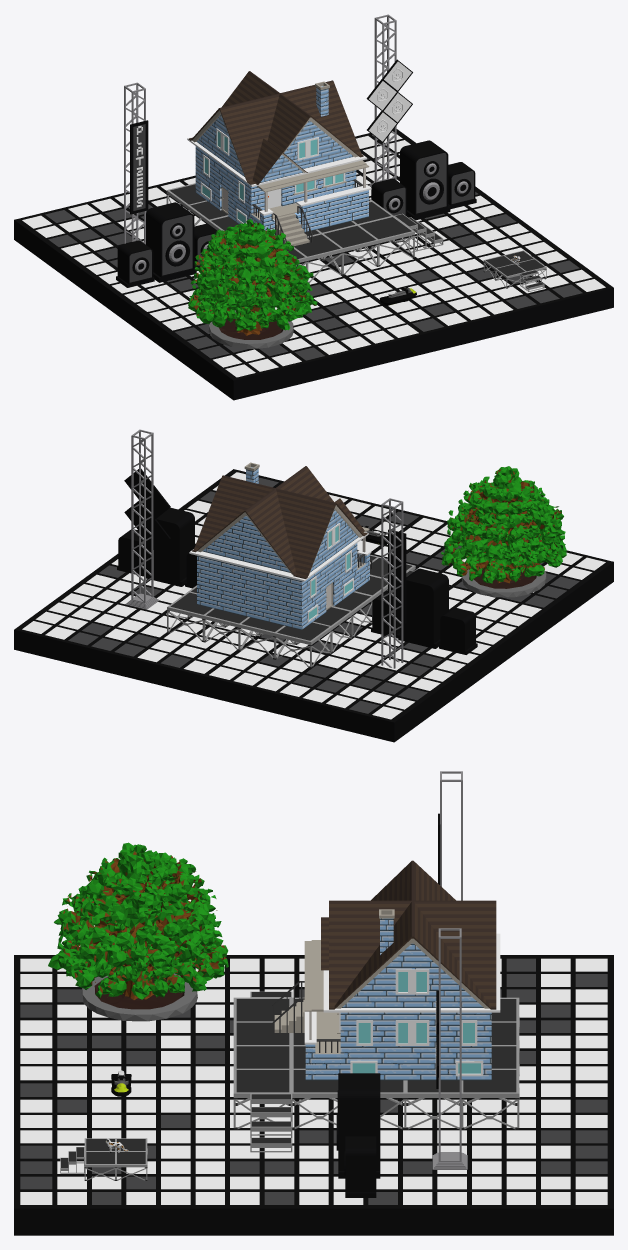
The picture shows the model from 3 angles, top to bottom: view 1: azimuth 30°, elevation 25°; view 2: azimuth 150°, elevation 25°; view 3: azimuth 270°, elevation 25°; orthographic projection. The views are drawn at different scales.
Visible parts, largest first — view 1: Cube.008, Cube.547, OBJRANDOM_CEIBA; view 2: Cube.008, Cube.547, OBJRANDOM_CEIBA; view 3: Cube.008, Cube.547, OBJRANDOM_CEIBA.
Part boxes in pixels (box(x1,y1,x2,y2)): Cube.008: box(14, 14, 613, 400); Cube.547: box(187, 71, 371, 246); OBJRANDOM_CEIBA: box(188, 219, 317, 348); Cube.008: box(14, 429, 613, 742); Cube.547: box(189, 462, 372, 629); OBJRANDOM_CEIBA: box(441, 466, 566, 597); Cube.008: box(14, 771, 613, 1235); Cube.547: box(272, 860, 500, 1080); OBJRANDOM_CEIBA: box(48, 842, 228, 1021).
Bounding box in the file's own units: 4000 × 2124 × 4000.
34 materials, 2 textured.
